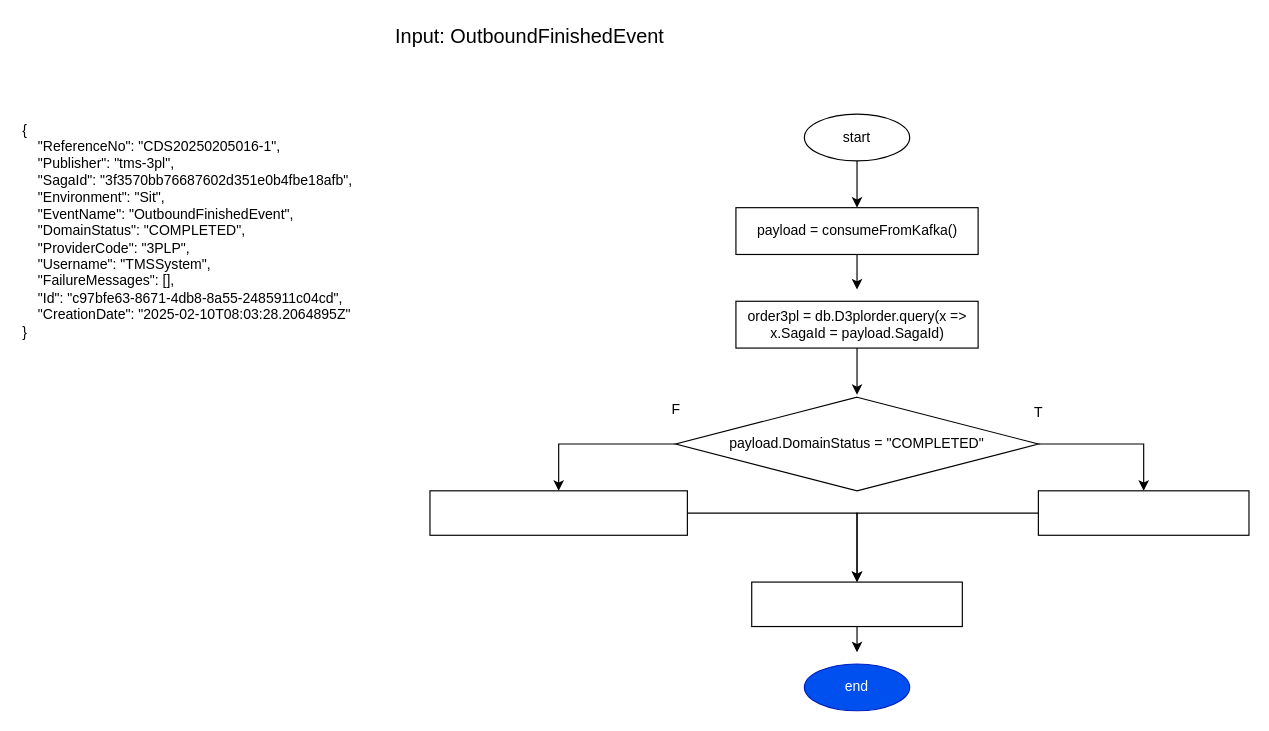
The diagram is 1269 pixels wide and 731 high, and some of its shapes have lost their labels. Here are the shapes that lost their labels. From the top down, the box of each, then its label:
(429, 490, 687, 535): order3pl.SetCompensatedStatus()
(1037, 490, 1249, 535): order3pl.SetCompleteStatus()
(751, 581, 962, 627): db.D3plorder.update(order3pl)
